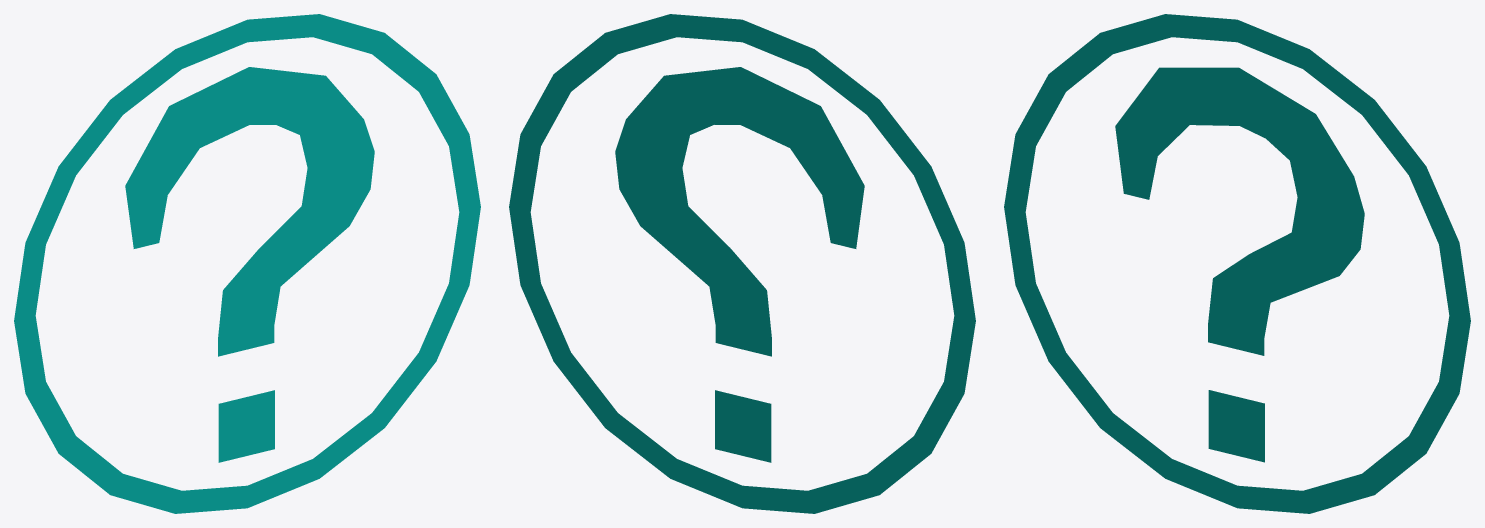
Rendered from mesh_infoicon.fbx.
3 renders of one model, left to right at view 1: azimuth 30°, elevation 25°; view 2: azimuth 150°, elevation 25°; view 3: azimuth 330°, elevation 25°, orthographic.
Parts seen in each view (by area): view 1: mesh_infoicon; view 2: mesh_infoicon; view 3: mesh_infoicon.
Boxes of the visible parts, x1,y1,x2,y2 form: mesh_infoicon: (14,14,480,513); mesh_infoicon: (509,14,975,513); mesh_infoicon: (1004,14,1470,513).
Size of the model in its own units: 0.0244 by 0.0244 by 1.01e-07.
